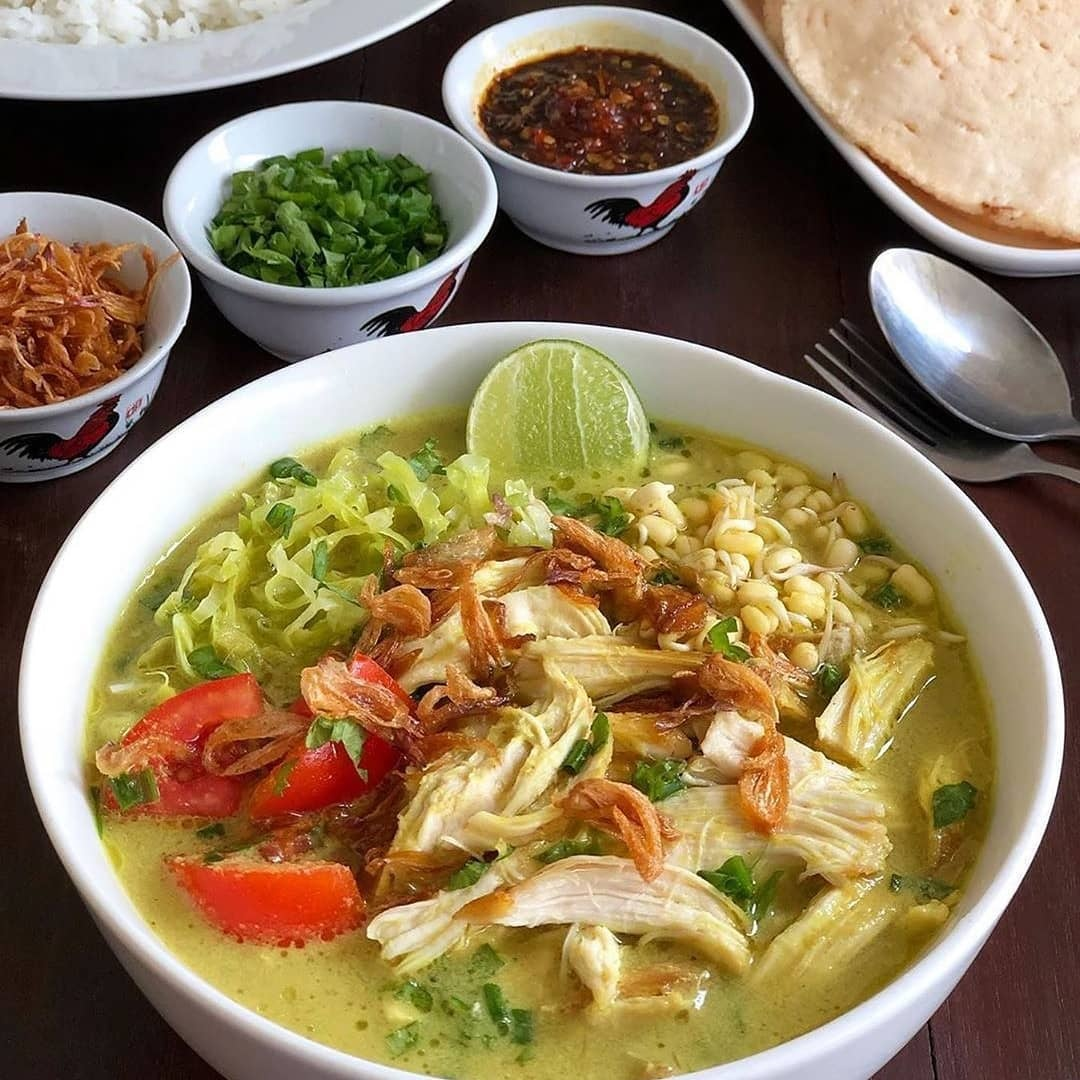soto: (108, 379, 953, 1037)
